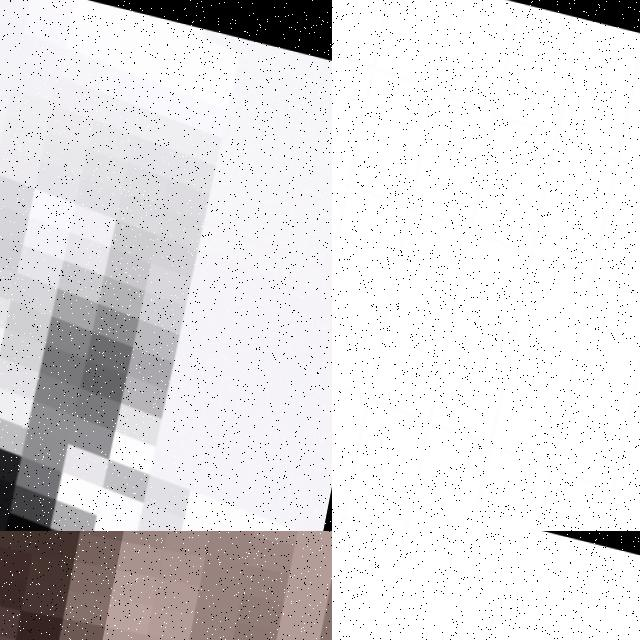0: (0, 0, 332, 531)
drone: (332, 0, 640, 531), (332, 531, 640, 640)
